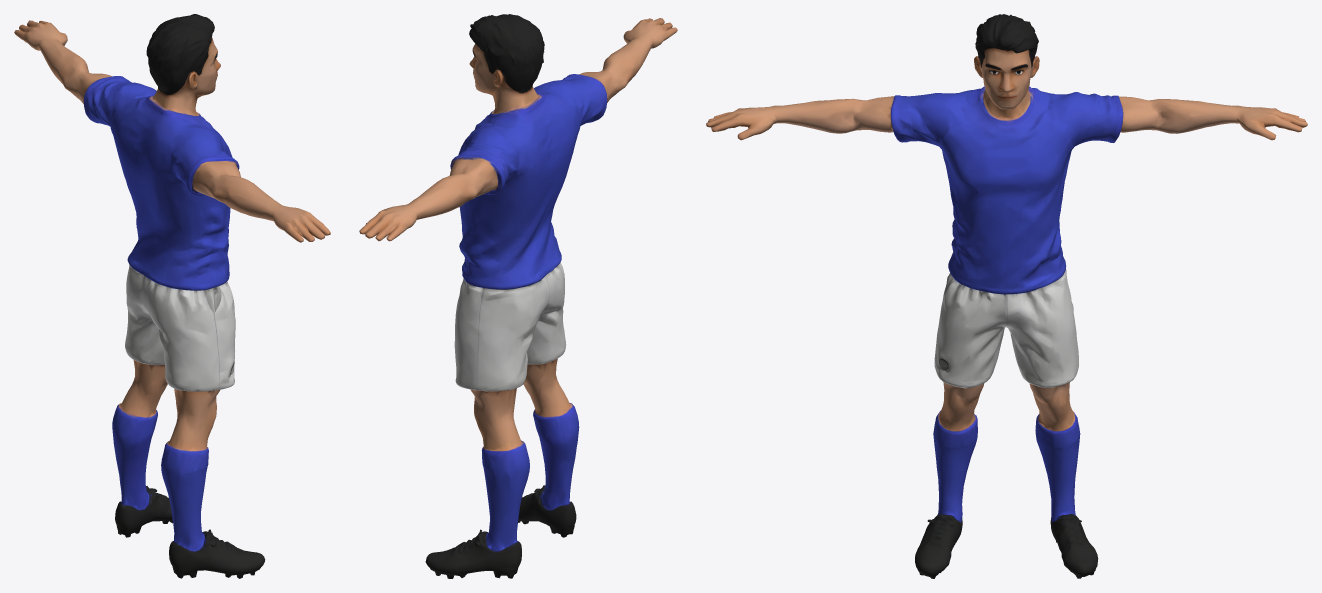
The model's file is TripoPlayer_v1.glb.
3 renders of one model, left to right at view 1: azimuth 30°, elevation 25°; view 2: azimuth 150°, elevation 25°; view 3: azimuth 270°, elevation 25°, orthographic. The views are drawn at different scales.
Parts seen in each view (by area): view 1: tripo_node_053b05b8-e85f-4ef7-b7b3-150eb397ce85; view 2: tripo_node_053b05b8-e85f-4ef7-b7b3-150eb397ce85; view 3: tripo_node_053b05b8-e85f-4ef7-b7b3-150eb397ce85.
Boxes of the visible parts, x1,y1,x2,y2 form: tripo_node_053b05b8-e85f-4ef7-b7b3-150eb397ce85: (14, 14, 330, 578); tripo_node_053b05b8-e85f-4ef7-b7b3-150eb397ce85: (359, 14, 677, 578); tripo_node_053b05b8-e85f-4ef7-b7b3-150eb397ce85: (706, 14, 1307, 578).
Bounding box in the file's own units: 0.1775 × 0.9978 × 1.
1 material, 1 textured.
